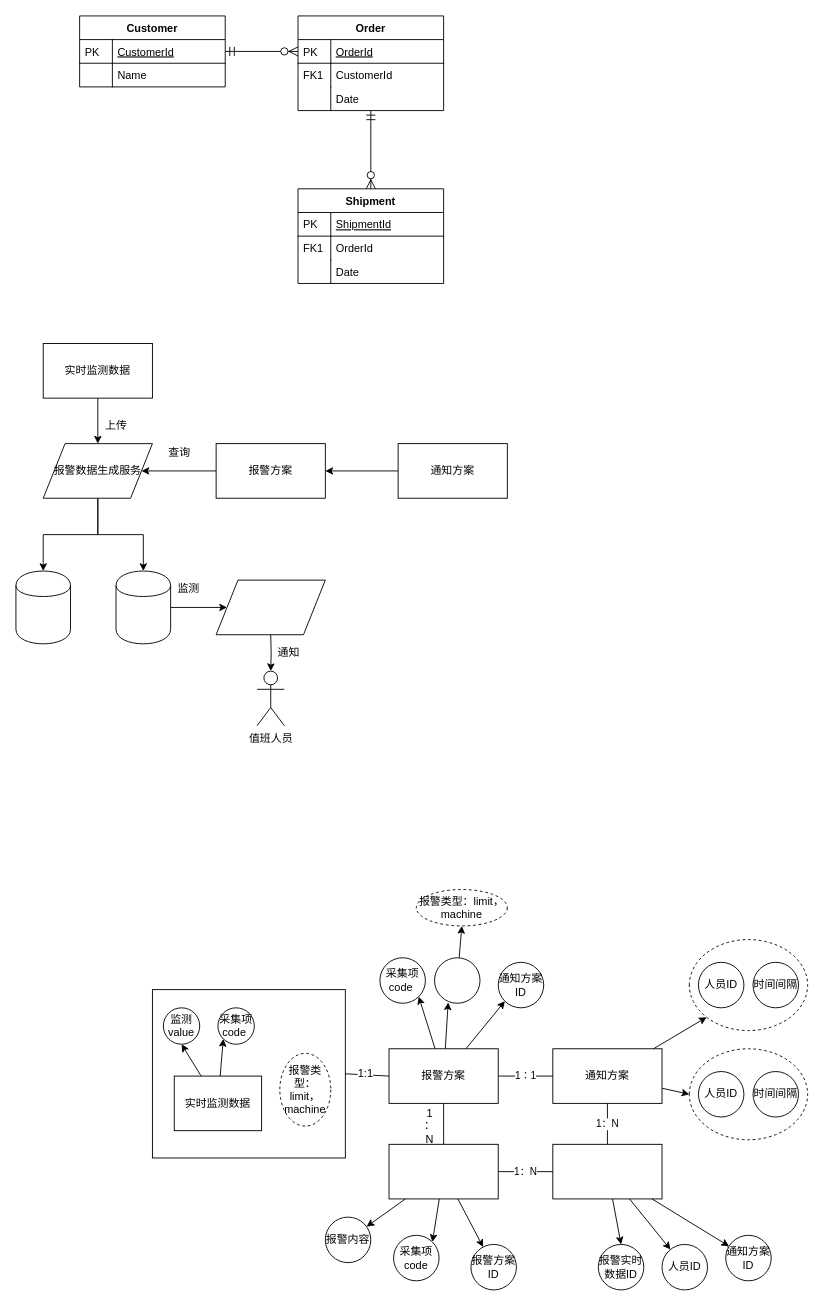
The diagram is 824 pixels wide and 1306 high, and some of its shapes have lost their labels. Each missing label, with the centre of its shape:
"报警历史数据库" belongs at point (43, 607).
"报警实时数据库" belongs at point (143, 607).
"报警实时数据表" belongs at point (443, 1171).
"报警规则" belongs at point (457, 980).
"通知服务" belongs at point (270, 607).
"通知记录表" belongs at point (607, 1171).
